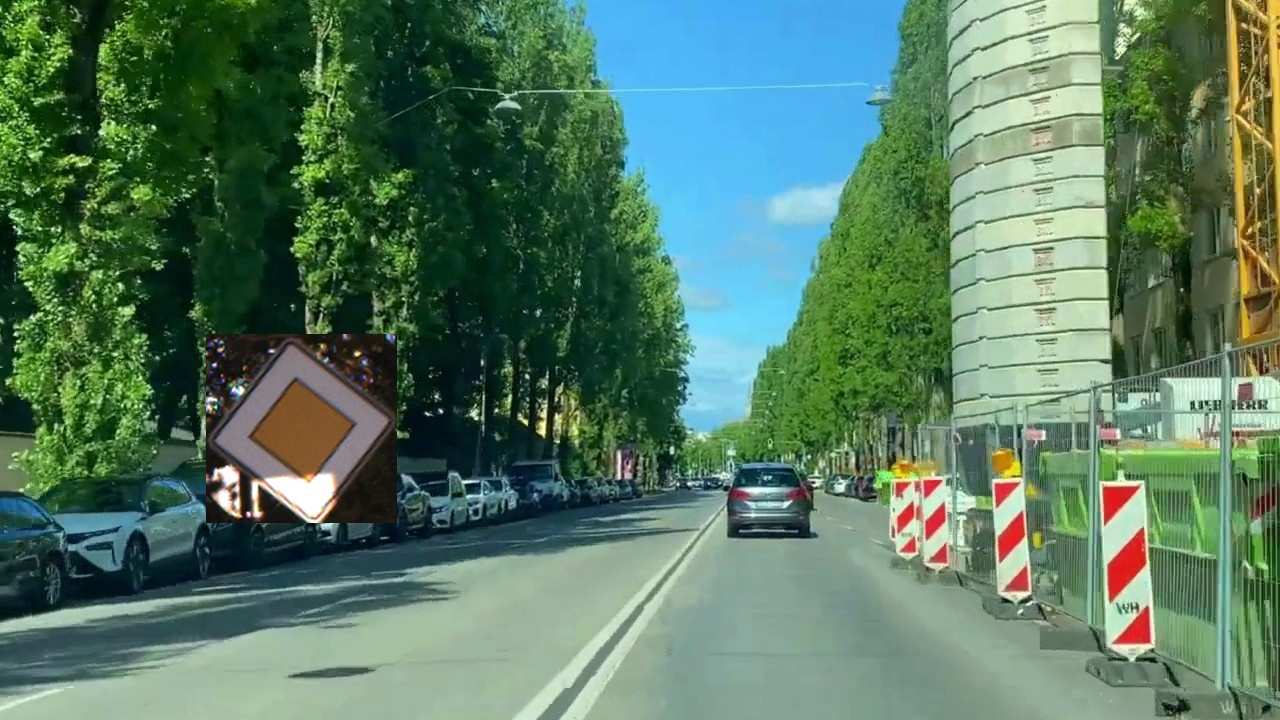Priority road: (206, 334, 397, 523)
